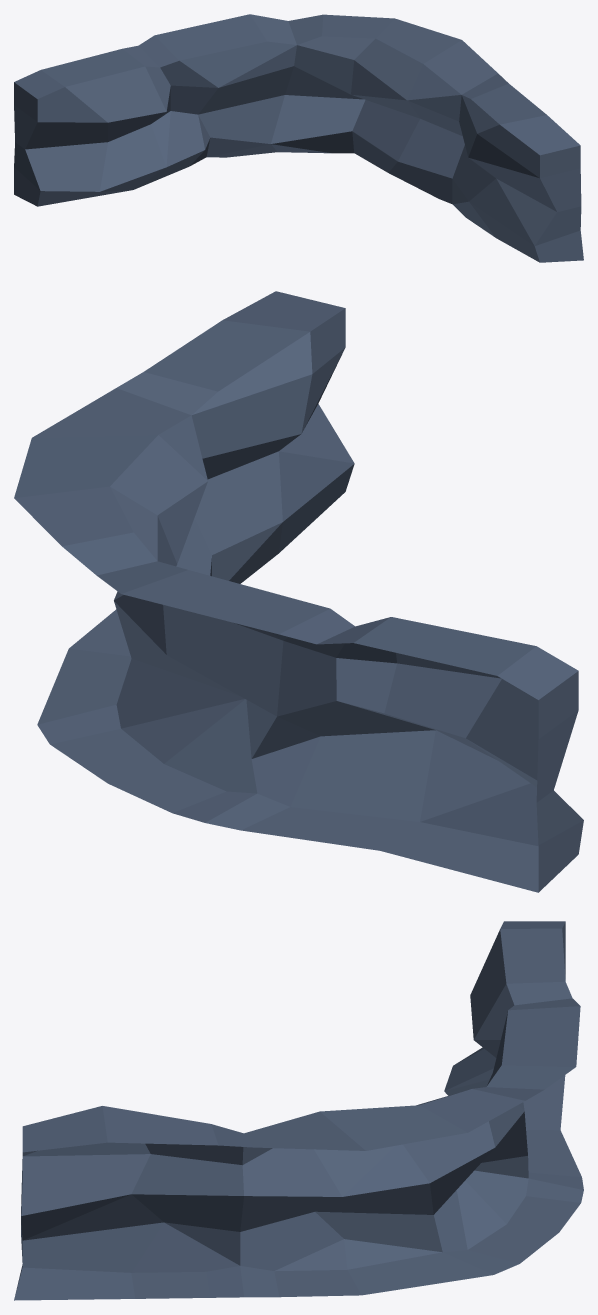
File: castle_wall_stone_inner_corner.fbx
3 renders of one model, top to bottom at view 1: azimuth 30°, elevation 25°; view 2: azimuth 150°, elevation 25°; view 3: azimuth 270°, elevation 25°, orthographic. The views are drawn at different scales.
Parts seen in each view (by area): view 1: castle_wall_stone_inner_corner; view 2: castle_wall_stone_inner_corner; view 3: castle_wall_stone_inner_corner.
Part boxes in pixels (left/top/right/bottom): castle_wall_stone_inner_corner: left=14, top=14, right=583, bottom=262; castle_wall_stone_inner_corner: left=14, top=291, right=583, bottom=892; castle_wall_stone_inner_corner: left=14, top=921, right=583, bottom=1300.
Bounding box in the file's own units: 6.36 × 2.02 × 6.42.
